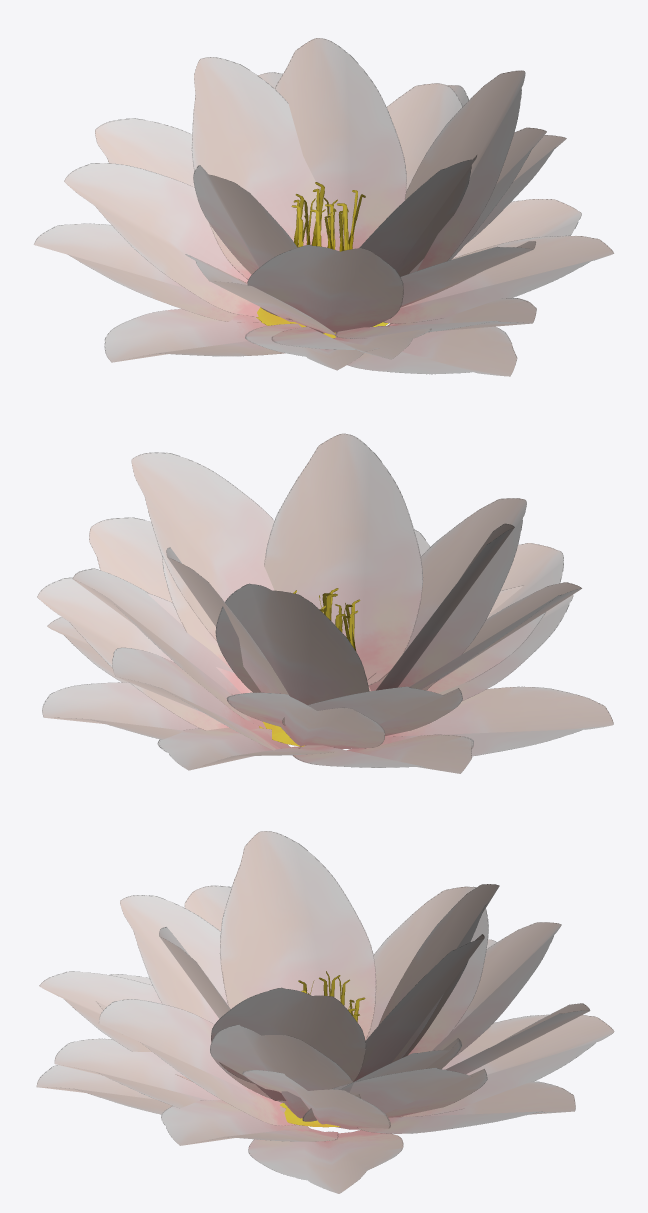
The model's file is propWaterLilly.fbx.
3 renders of one model, top to bottom at view 1: azimuth 30°, elevation 25°; view 2: azimuth 150°, elevation 25°; view 3: azimuth 270°, elevation 25°, orthographic. The views are drawn at different scales.
Parts seen in each view (by area): view 1: PedalsBB.048; view 2: PedalsBB.048; view 3: PedalsBB.048.
Part boxes in pixels (x1=…): PedalsBB.048: x1=34, y1=38, x2=613, y2=376; PedalsBB.048: x1=37, y1=433, x2=613, y2=773; PedalsBB.048: x1=36, y1=831, x2=614, y2=1193.
Size of the model in its own units: 51.9 by 22.36 by 51.54.
Materials: 1 (1 with a texture image).
